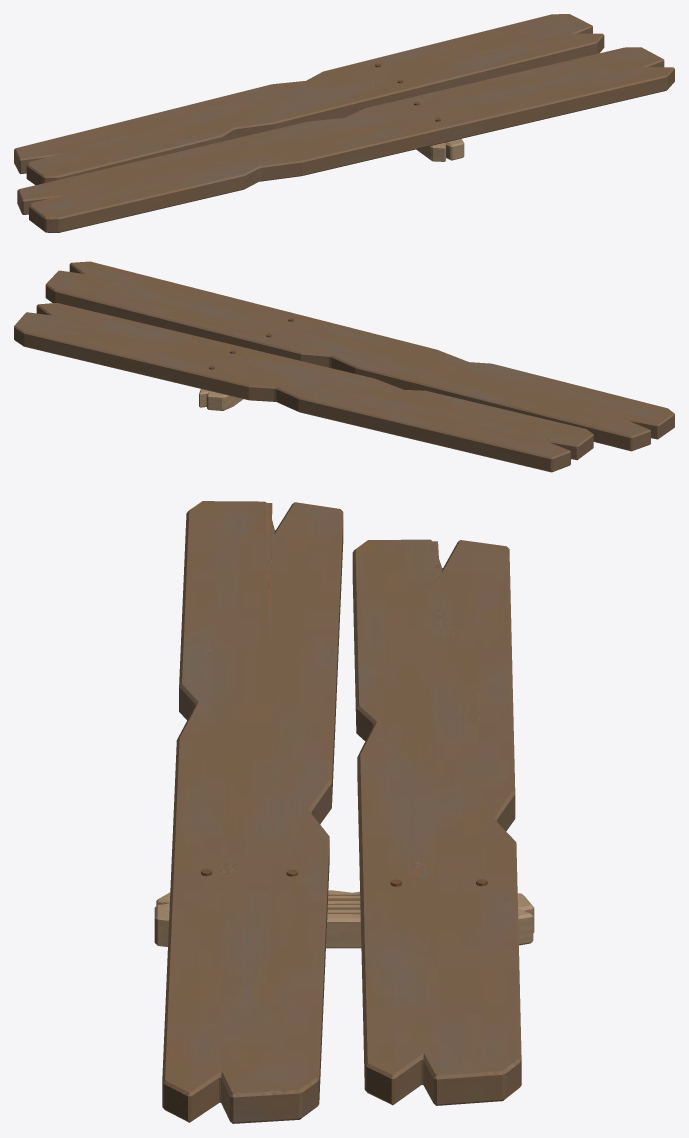
Rendered from D18_wooden_planks_v2.glb.
3 renders of one model, top to bottom at view 1: azimuth 30°, elevation 25°; view 2: azimuth 150°, elevation 25°; view 3: azimuth 270°, elevation 25°, orthographic. The views are drawn at different scales.
Parts seen in each view (by area): view 1: Underside crosspiece; view 2: Underside crosspiece; view 3: Underside crosspiece.
Part boxes in pixels (<box>): Underside crosspiece: <box>14,14,674,232</box>; Underside crosspiece: <box>14,261,674,472</box>; Underside crosspiece: <box>154,501,534,1123</box>.
Bounding box in the file's own units: 1.5 × 0.074 × 0.4043.
3 materials, 3 textured.
